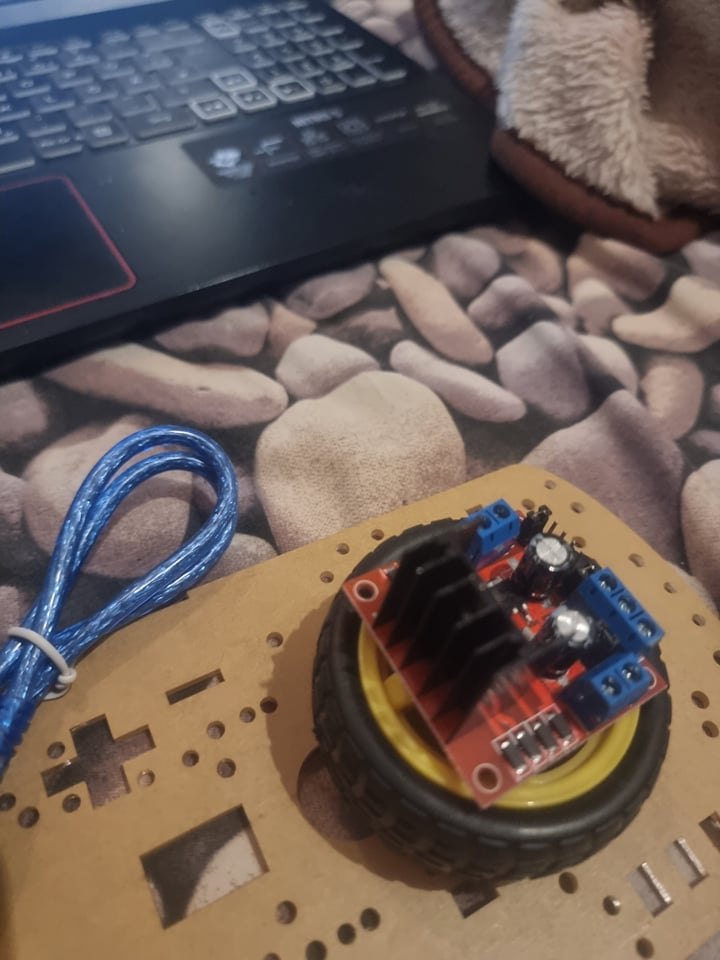MOTOR: (343, 503, 667, 814)
